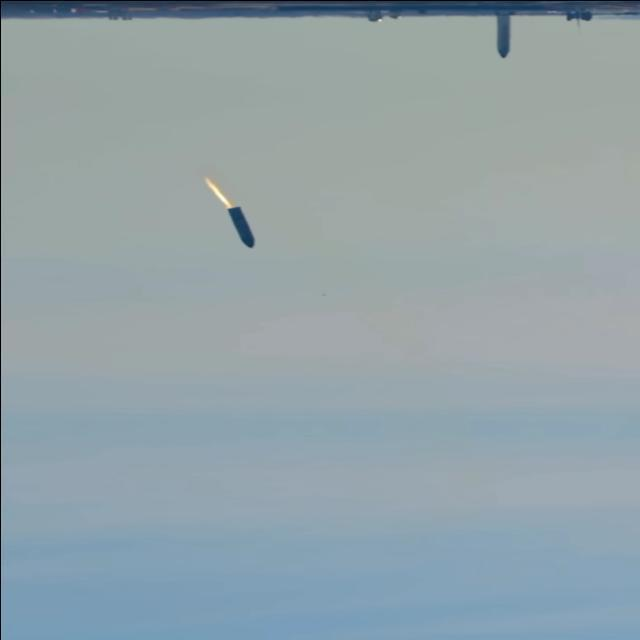Missile: (222, 203, 260, 255), (491, 0, 512, 63)
